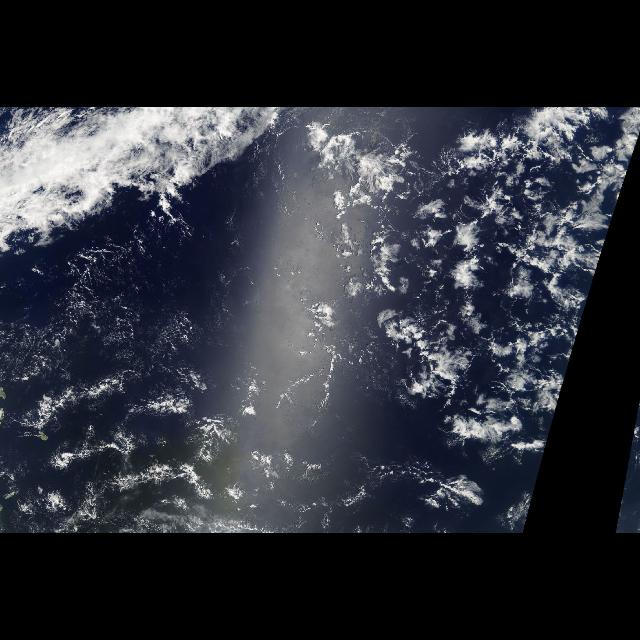Flower: (9, 122, 639, 532), (629, 400, 639, 454)
Sugar: (1, 238, 240, 532)
